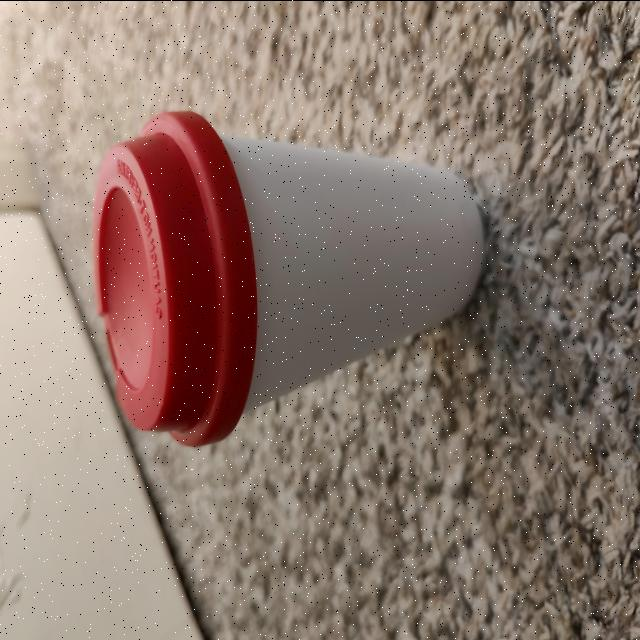mug: (98, 114, 484, 450)
